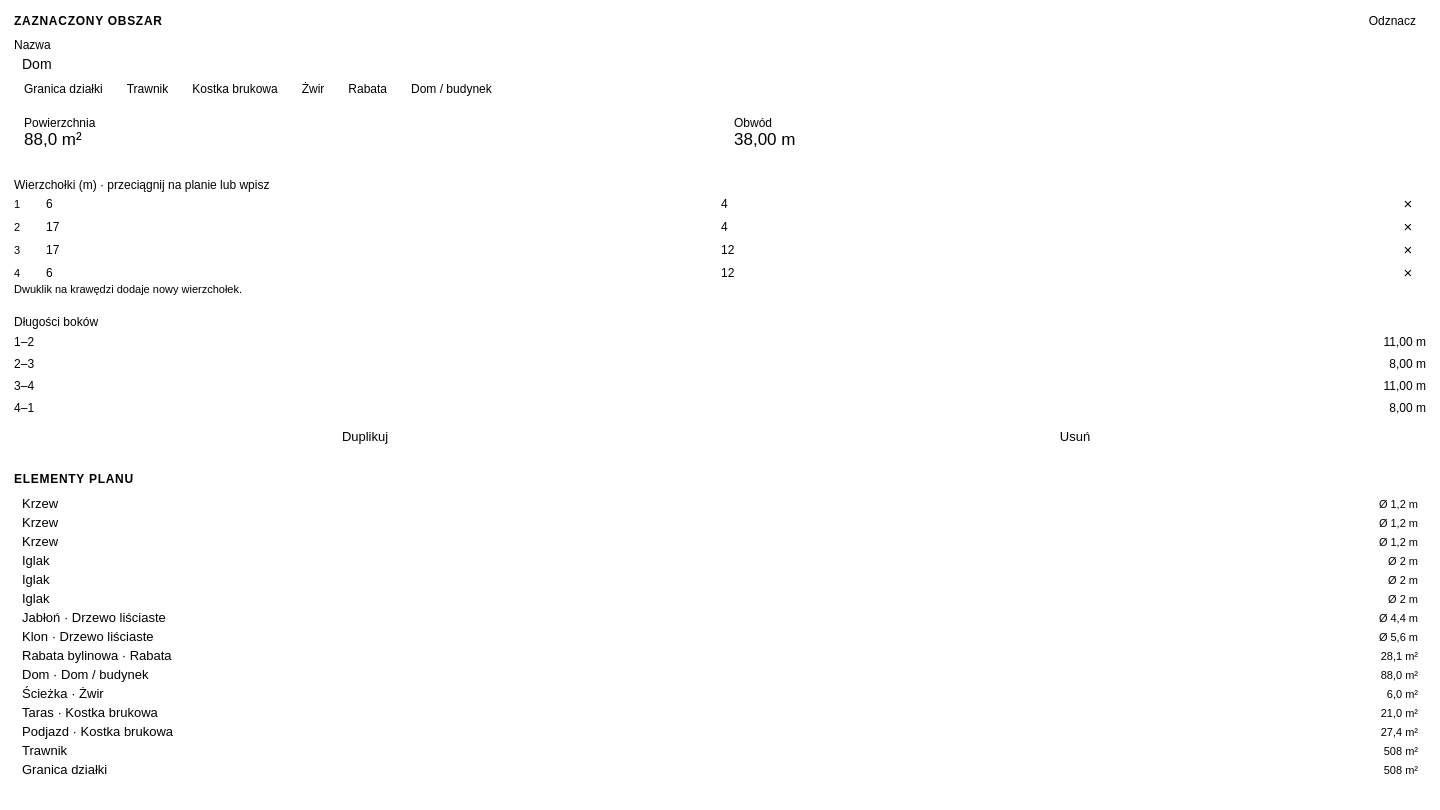
Test: InspectorPoly › duplicate, remove and deselect
What coordinates should you click on to do the following:
click the button "Duplikuj"
I would click on:
 (365, 437)
Its box is [14,429,716,444].
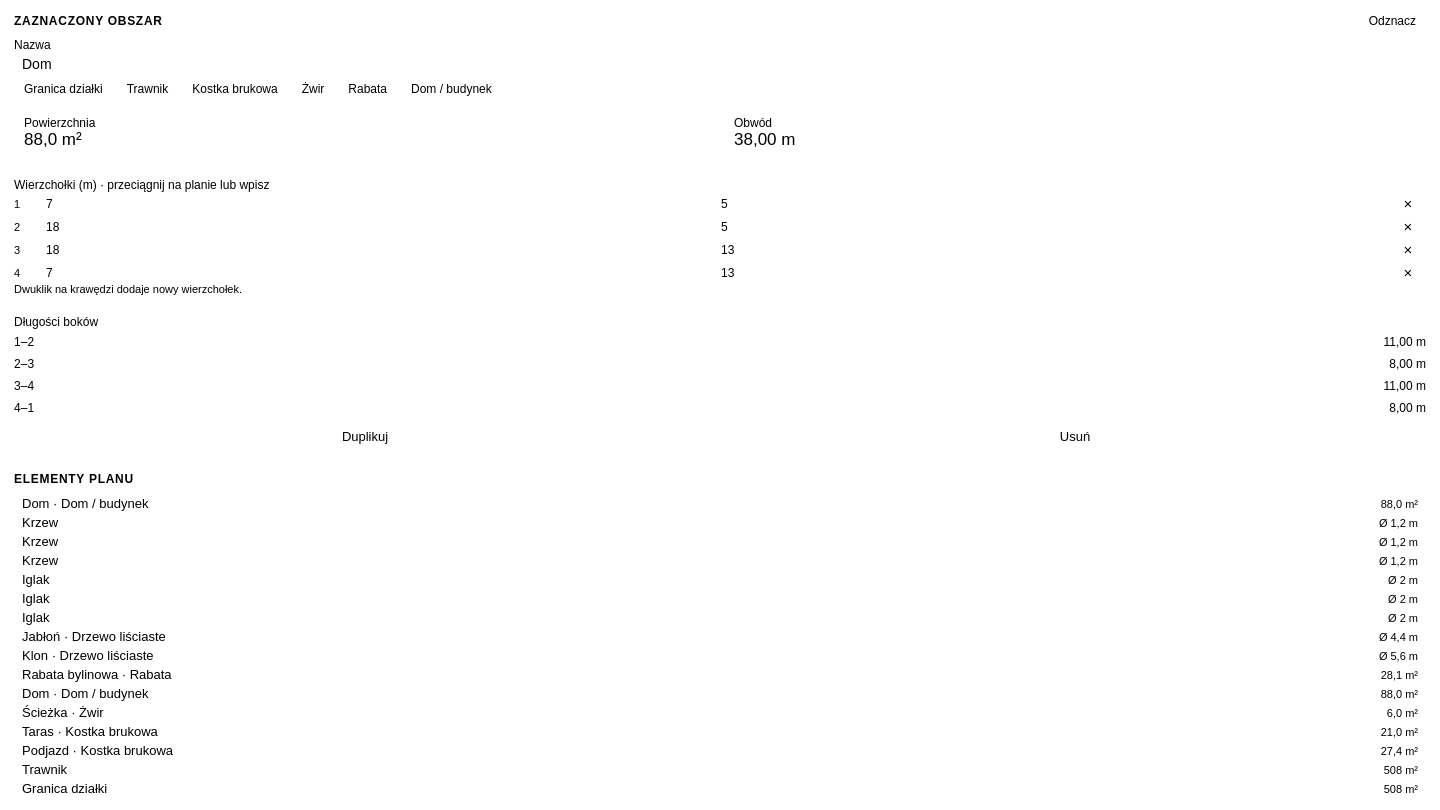
What coordinates should you click on to do the following:
click the button "Usuń"
I would click on:
 (1075, 437)
Its box is [724,429,1426,444].
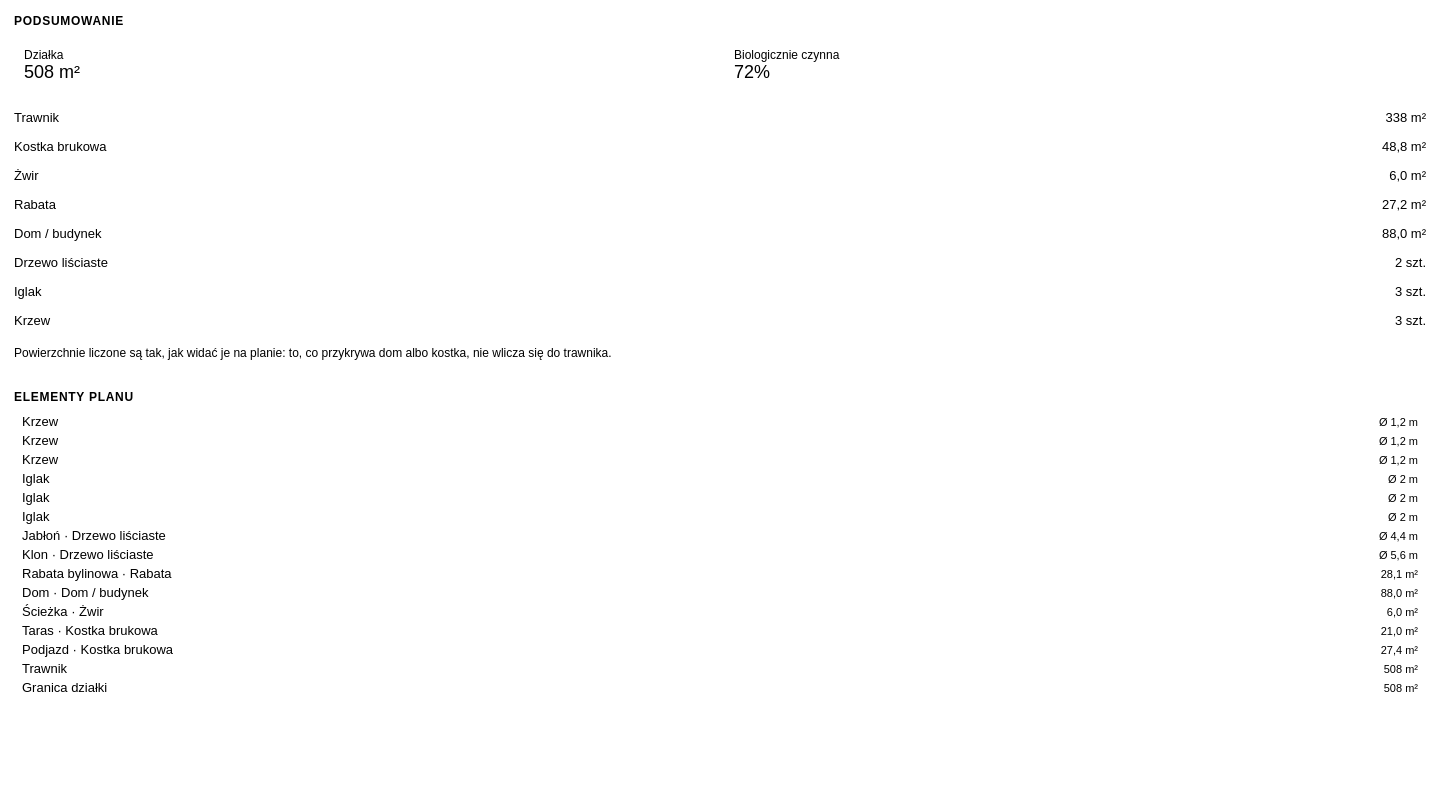
expect the element "Podsumowanie" is shown: met, box [0,0,1439,376]
